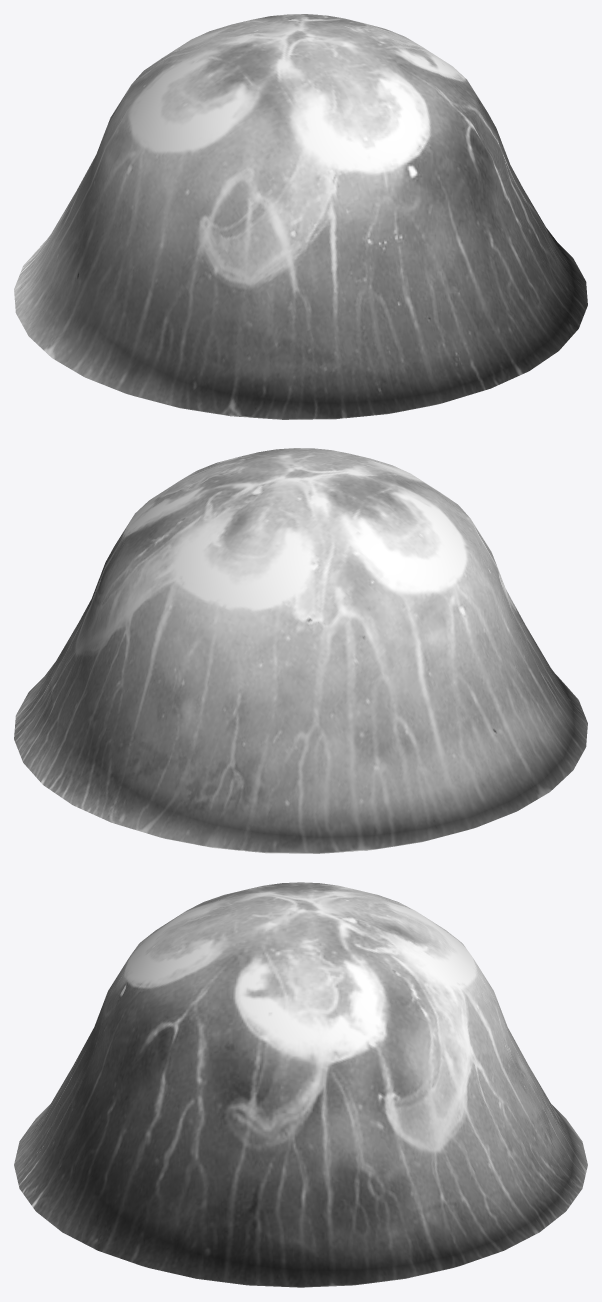
Rendered from Jellyfish.fbx.
The picture shows the model from 3 angles, top to bottom: view 1: azimuth 30°, elevation 25°; view 2: azimuth 150°, elevation 25°; view 3: azimuth 270°, elevation 25°; orthographic projection.
Parts seen in each view (by area): view 1: Jellyfish Head; view 2: Jellyfish Head; view 3: Jellyfish Head.
Boxes of the visible parts, x1,y1,x2,y2 form: Jellyfish Head: (14, 14, 587, 419); Jellyfish Head: (14, 448, 587, 853); Jellyfish Head: (14, 882, 587, 1287).
Size of the model in its own units: 178 by 92.29 by 178.
1 material, 1 textured.
